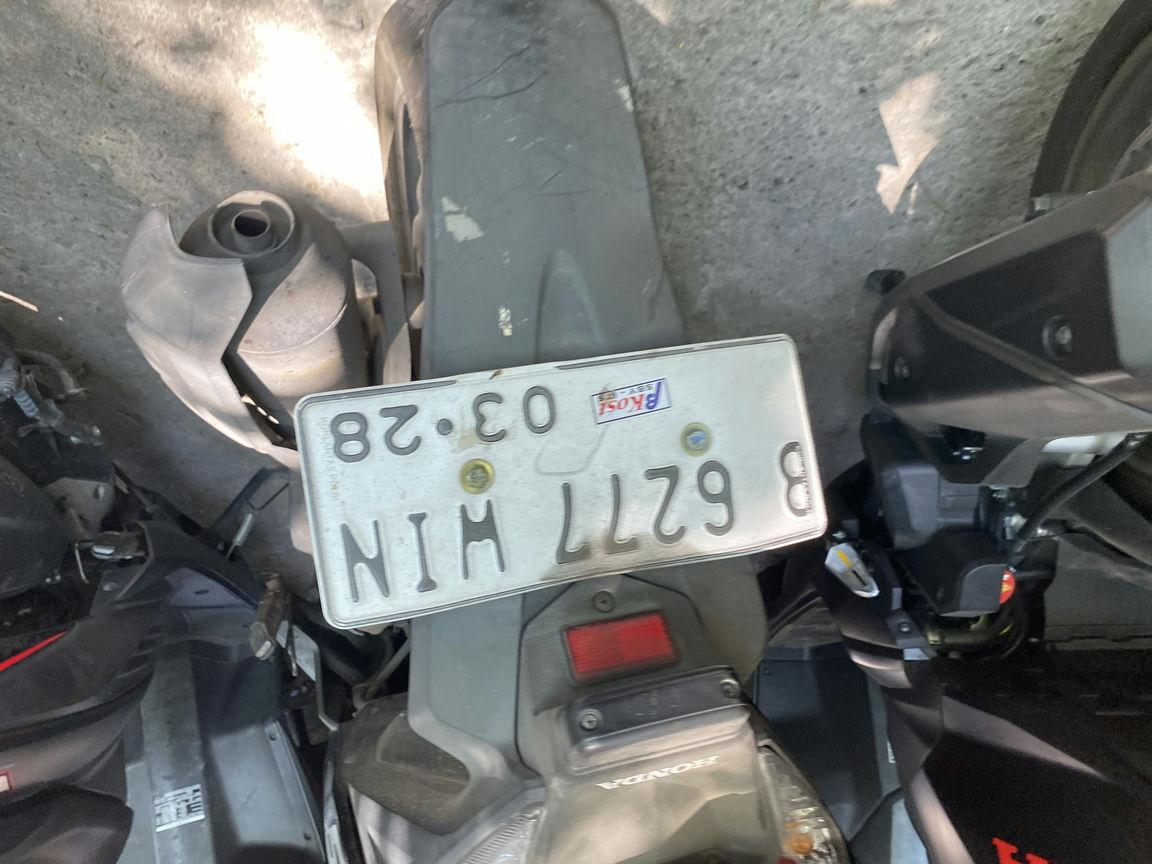plat: (326, 236, 857, 529)
